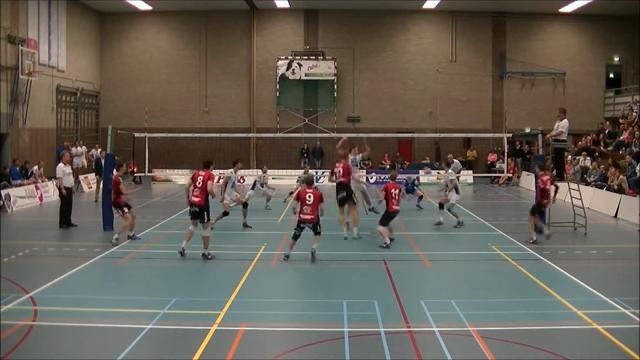Player: (179, 160, 214, 259), (283, 175, 323, 260), (331, 137, 359, 239), (212, 160, 251, 227), (527, 163, 558, 243), (111, 163, 139, 245), (377, 171, 403, 248), (435, 160, 463, 227), (245, 166, 275, 209), (352, 176, 378, 213), (284, 165, 309, 202), (404, 176, 423, 209)
ball: (421, 167, 435, 175)
